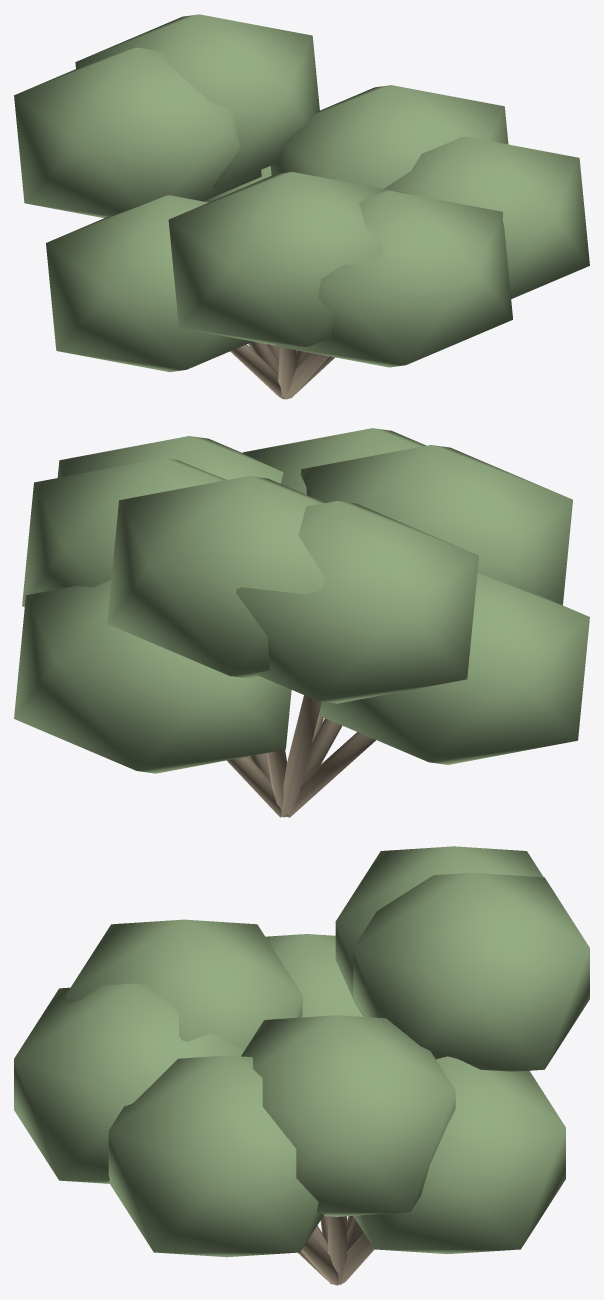
File: rhine-hedge_lod0.glb
3 views of the same model, one above another, from view 1: azimuth 30°, elevation 25°; view 2: azimuth 150°, elevation 25°; view 3: azimuth 270°, elevation 25° (orthographic). The views are drawn at different scales.
Parts seen in each view (by area): view 1: RF_ShrubLeaves.001, RF_ShrubLeaves.007, RF_ShrubLeaves.002, RF_ShrubLeaves.004, RF_ShrubLeaves.006, RF_ShrubLeaves.005, RF_ShrubLeaves, RF_ShrubBranch.005, RF_ShrubBranch.003, RF_ShrubBranch; view 2: RF_ShrubLeaves.001, RF_ShrubLeaves.003, RF_ShrubLeaves.006, RF_ShrubLeaves.004, RF_ShrubLeaves.007, RF_ShrubLeaves, RF_ShrubLeaves.005, RF_ShrubLeaves.002, RF_ShrubBranch.002, RF_ShrubBranch.005, RF_ShrubBranch.004, RF_ShrubBranch (+1 smaller); view 3: RF_ShrubLeaves.006, RF_ShrubLeaves.005, RF_ShrubLeaves, RF_ShrubLeaves.003, RF_ShrubLeaves.002, RF_ShrubLeaves.007, RF_ShrubLeaves.001, RF_ShrubLeaves.004, RF_ShrubBranch.001, RF_ShrubBranch.006, RF_ShrubBranch.004.
Part boxes in pixels (x1,y1,x2,y2): RF_ShrubLeaves.001: (14, 47, 261, 217); RF_ShrubLeaves.007: (168, 172, 405, 347); RF_ShrubLeaves.002: (275, 190, 512, 367); RF_ShrubLeaves.004: (46, 195, 252, 372); RF_ShrubLeaves.006: (75, 14, 319, 188); RF_ShrubLeaves.005: (384, 136, 589, 298); RF_ShrubLeaves: (270, 85, 508, 188); RF_ShrubBranch.005: (230, 344, 284, 399); RF_ShrubBranch.003: (284, 353, 329, 399); RF_ShrubBranch: (278, 347, 296, 398); RF_ShrubLeaves.001: (236, 501, 478, 703); RF_ShrubLeaves.003: (14, 580, 291, 773); RF_ShrubLeaves.006: (107, 476, 325, 678); RF_ShrubLeaves.004: (318, 573, 589, 764); RF_ShrubLeaves.007: (300, 445, 572, 605); RF_ShrubLeaves: (22, 458, 226, 606); RF_ShrubLeaves.005: (57, 436, 283, 483); RF_ShrubLeaves.002: (242, 428, 426, 494); RF_ShrubBranch.002: (281, 695, 321, 817); RF_ShrubBranch.005: (287, 732, 375, 817); RF_ShrubBranch.004: (227, 756, 281, 817); RF_ShrubBranch: (302, 718, 342, 780); RF_ShrubLeaves.006: (353, 872, 589, 1071); RF_ShrubLeaves.005: (108, 1055, 324, 1257); RF_ShrubLeaves: (241, 1015, 455, 1216); RF_ShrubLeaves.003: (353, 1056, 565, 1254); RF_ShrubLeaves.002: (14, 983, 244, 1183); RF_ShrubLeaves.007: (66, 919, 302, 1049); RF_ShrubLeaves.001: (335, 846, 543, 1016); RF_ShrubLeaves.004: (265, 934, 363, 1017); RF_ShrubBranch.001: (328, 1216, 346, 1283); RF_ShrubBranch.006: (301, 1235, 338, 1285); RF_ShrubBranch.004: (339, 1233, 374, 1284).
Size of the model in its own units: 2.31 by 1.56 by 2.07.
